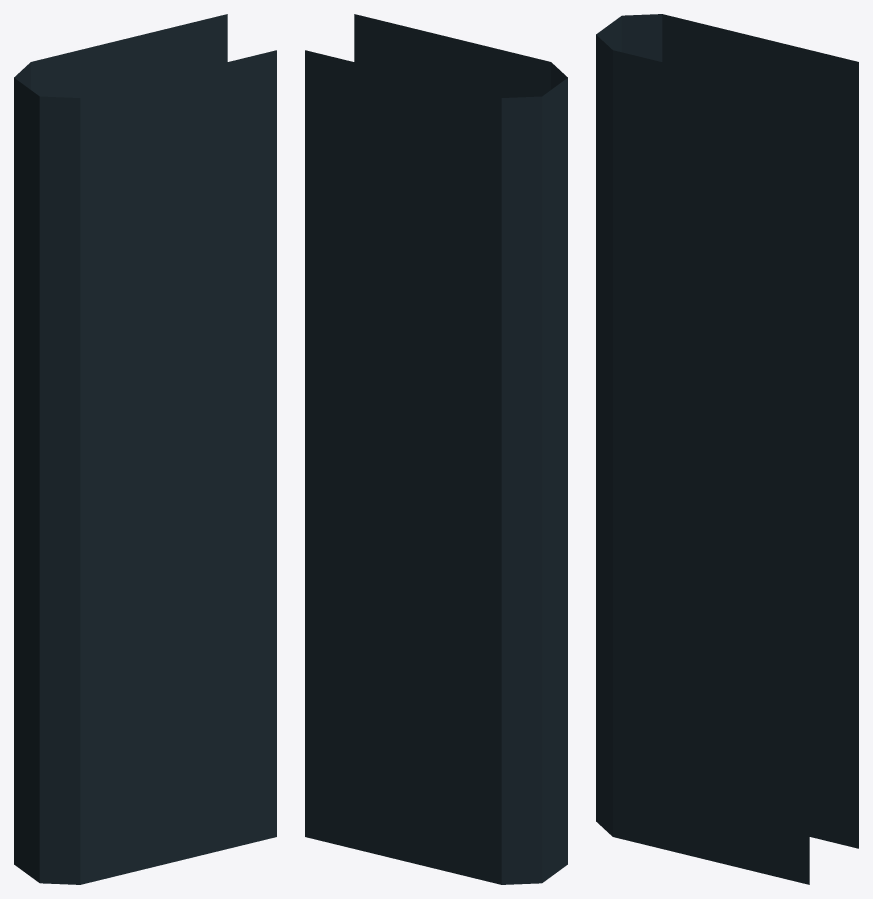
File: Pillar_03.FBX
3 renders of one model, left to right at view 1: azimuth 30°, elevation 25°; view 2: azimuth 150°, elevation 25°; view 3: azimuth 330°, elevation 25°, orthographic.
Visible parts, largest first — view 1: Object366; view 2: Object366; view 3: Object366.
Part boxes in pixels (bbox=[...]): Object366: bbox=[14, 14, 276, 884]; Object366: bbox=[305, 14, 567, 884]; Object366: bbox=[596, 14, 858, 884].
Bounding box in the file's own units: 115 × 382 × 43.45.
